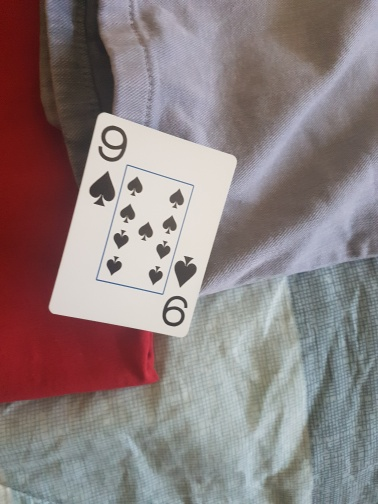nine: (50, 112, 238, 338)
